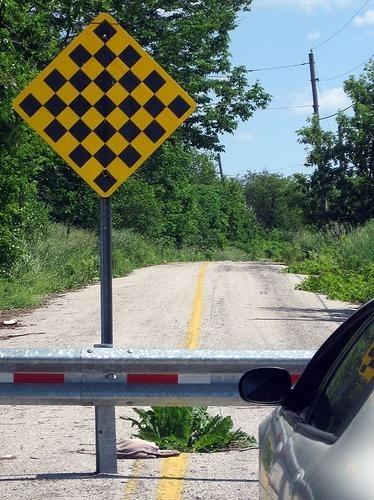car: (239, 298, 374, 500)
